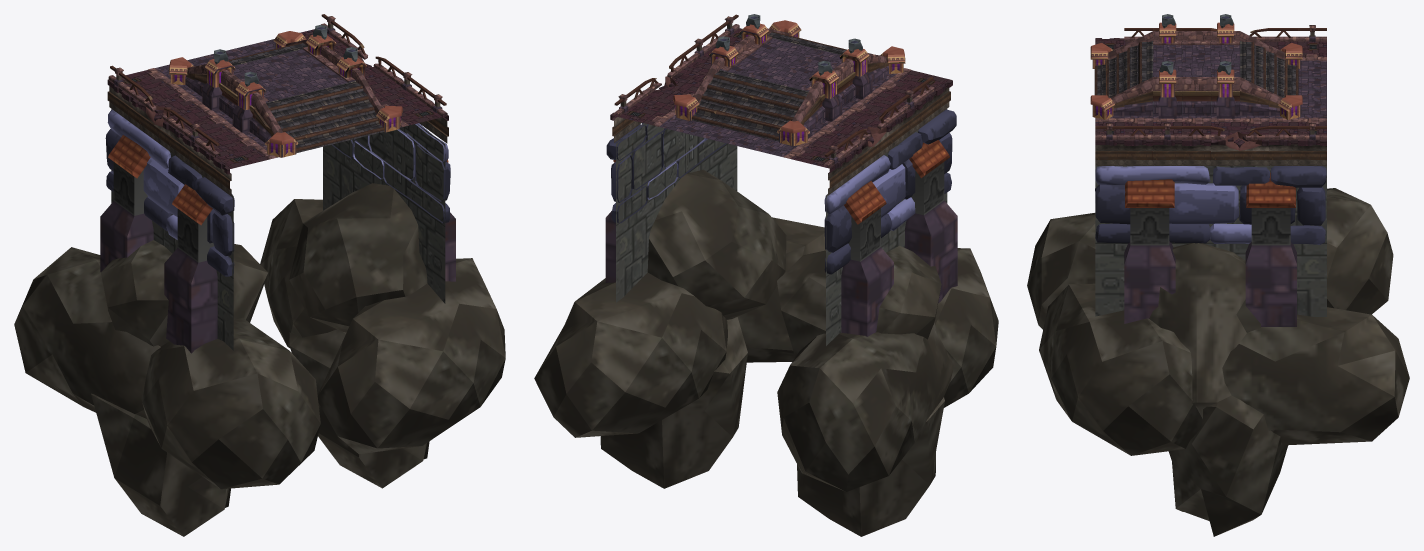
Rendered from Hallway_I_16_C.fbx.
3 renders of one model, left to right at view 1: azimuth 30°, elevation 25°; view 2: azimuth 150°, elevation 25°; view 3: azimuth 270°, elevation 25°, orthographic. The views are drawn at different scales.
Parts seen in each view (by area): view 1: Hallway_I_16_C; view 2: Hallway_I_16_C; view 3: Hallway_I_16_C.
Boxes of the visible parts, left/top/right/bottom form: Hallway_I_16_C: left=14, top=14, right=505, bottom=536; Hallway_I_16_C: left=534, top=14, right=998, bottom=536; Hallway_I_16_C: left=1027, top=14, right=1409, bottom=536.
Size of the model in its own units: 2799 by 3286 by 2641.
